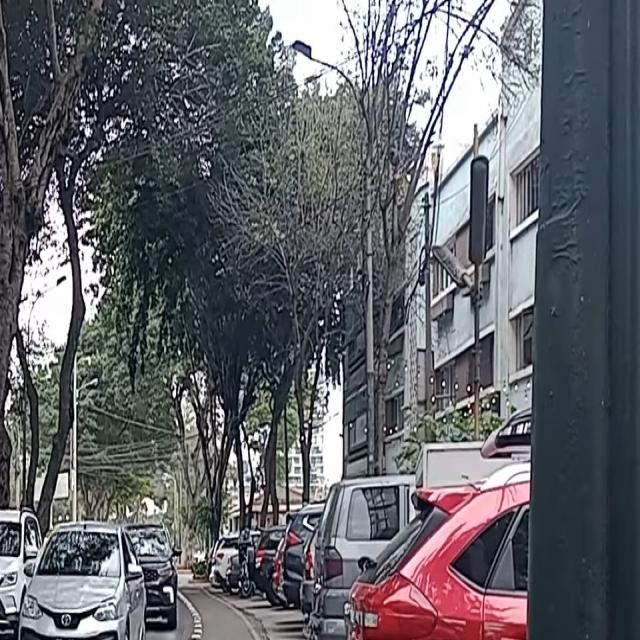car: (17, 515, 145, 640), (121, 522, 180, 628), (0, 509, 41, 638)
